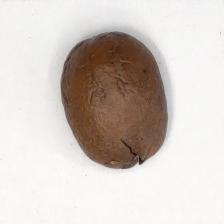NG: (102, 136, 153, 170)
